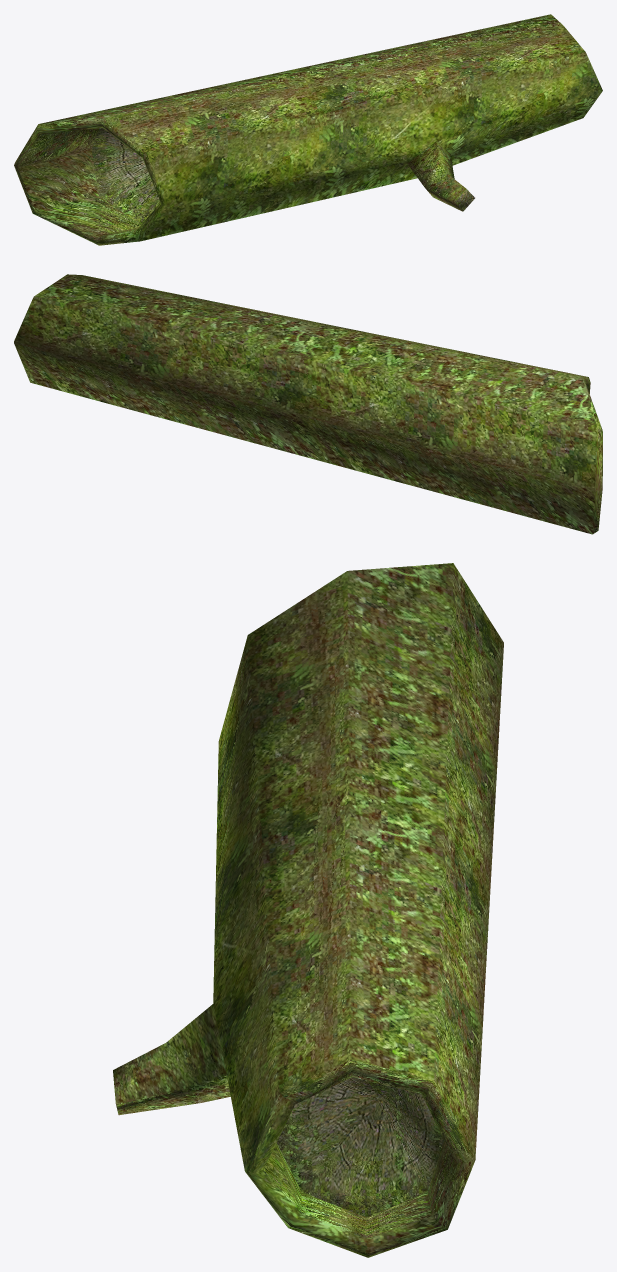
The model's file is ever_endr_mossylog_l0.fbx.
3 renders of one model, top to bottom at view 1: azimuth 30°, elevation 25°; view 2: azimuth 150°, elevation 25°; view 3: azimuth 270°, elevation 25°, orthographic. The views are drawn at different scales.
Visible parts, largest first — view 1: mesh_node; view 2: mesh_node; view 3: mesh_node.
Part boxes in pixels (x1,y1,x2,y2): mesh_node: (14, 14, 602, 245); mesh_node: (14, 274, 602, 534); mesh_node: (113, 563, 503, 1257).
Bounding box in the file's own units: 6.12 × 1.45 × 1.95.
